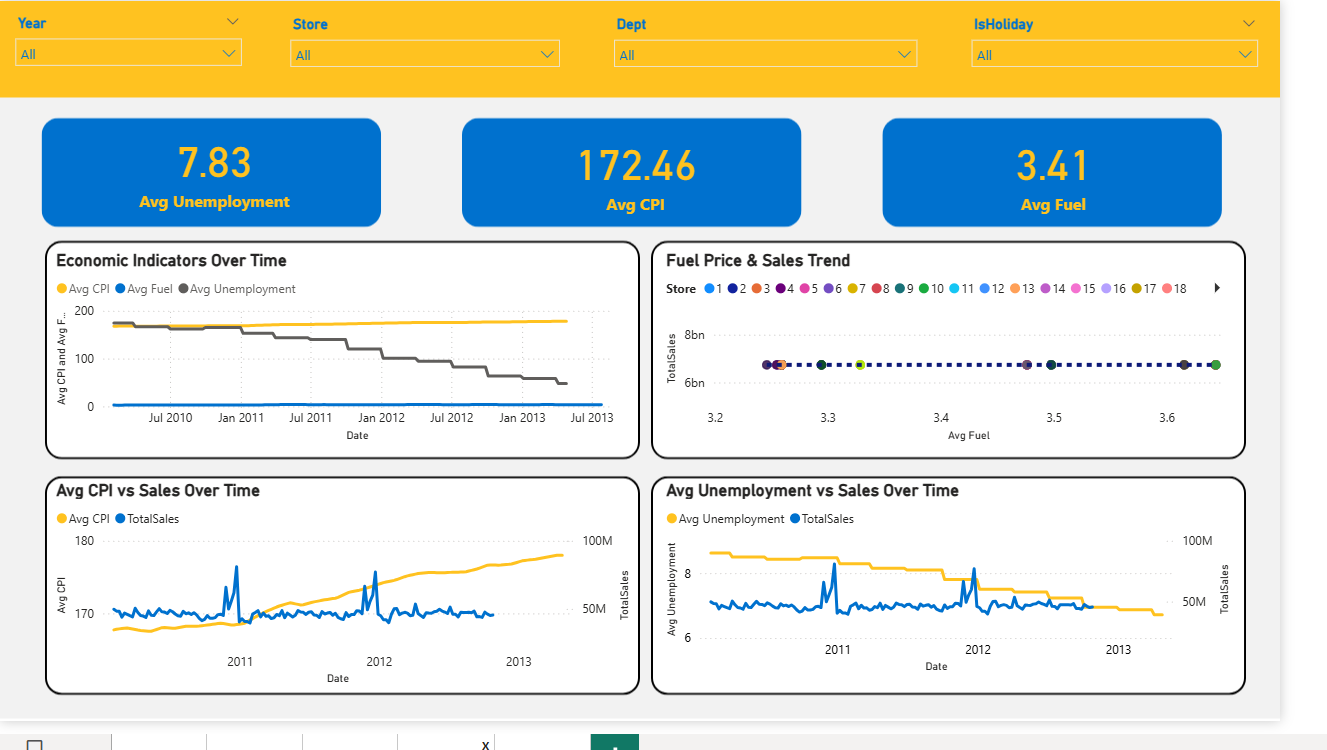

This screenshot's page, from the dashboard's own definition file:
{"tool":"powerbi","page":{"name":"Page 4","canvas":[1280,720],"ordinal":3},"visuals":[{"type":"lineChart","title":"Economic Indicators Over Time","fields":{"Category":["Dim_Date.Date"],"Y":["Category Parameter.Avg CPI","Category Parameter.Avg Fuel"],"Y2":["Category Parameter.Avg Unemployment"]},"box":[51.7,248.3,568.3,196.7],"z":0},{"type":"lineChart","title":"Avg CPI vs Sales Over Time","fields":{"Category":["Dim_Date.Date"],"Y2":["Dim_Date.TotalSales"],"Y":["Category Parameter.Avg CPI"]},"box":[51.7,478.3,585,210],"z":1000},{"type":"lineChart","title":"Avg Unemployment vs Sales Over Time","fields":{"Y":["Category Parameter.Avg Unemployment"],"Category":["Dim_Date.Date"],"Y2":["Dim_Date.TotalSales"]},"box":[661.7,478.3,575,198.3],"z":2000},{"type":"scatterChart","title":"Fuel Price & Sales Trend","fields":{"Y":["Dim_Date.TotalSales"],"Series":["features.Store"],"X":["Category Parameter.Avg Fuel"]},"box":[661.7,248.3,575,196.7],"z":3000},{"type":"slicer","fields":{"Values":["Dim_Date.Year"]},"box":[5,8.3,246.7,65],"z":4000},{"type":"slicer","fields":{"Values":["stores.Store"]},"box":[280,10,290,65],"z":5000},{"type":"slicer","fields":{"Values":["train.Dept"]},"box":[603.3,10,323.3,65],"z":6000},{"type":"slicer","fields":{"Values":["features.IsHoliday"]},"box":[961.7,10,306.7,65],"z":7000},{"type":"card","fields":{"Values":["Category Parameter.Avg CPI"]},"box":[520,120,231.7,101.7],"z":8000},{"type":"card","fields":{"Values":["Category Parameter.Avg Fuel"]},"box":[911.7,120,285,101.7],"z":9000},{"type":"card","fields":{"Values":["Category Parameter.Avg Unemployment"]},"box":[68.3,113.3,291.7,108.3],"z":10000}]}

Visuals, with their boxes on the page's 1280x720 design canvas (x1, y1, x2, y2). These are canvas units, not pixel positions in the 1327x750 screenshot, which may show the page scaled, cropped or inside an application window:
"Economic Indicators Over Time" lineChart: {"left": 52, "top": 248, "right": 620, "bottom": 445}
"Avg CPI vs Sales Over Time" lineChart: {"left": 52, "top": 478, "right": 637, "bottom": 688}
"Avg Unemployment vs Sales Over Time" lineChart: {"left": 662, "top": 478, "right": 1237, "bottom": 677}
"Fuel Price & Sales Trend" scatterChart: {"left": 662, "top": 248, "right": 1237, "bottom": 445}
slicer - Dim_Date.Year: {"left": 5, "top": 8, "right": 252, "bottom": 73}
slicer - stores.Store: {"left": 280, "top": 10, "right": 570, "bottom": 75}
slicer - train.Dept: {"left": 603, "top": 10, "right": 927, "bottom": 75}
slicer - features.IsHoliday: {"left": 962, "top": 10, "right": 1268, "bottom": 75}
card - Category Parameter.Avg CPI: {"left": 520, "top": 120, "right": 752, "bottom": 222}
card - Category Parameter.Avg Fuel: {"left": 912, "top": 120, "right": 1197, "bottom": 222}
card - Category Parameter.Avg Unemployment: {"left": 68, "top": 113, "right": 360, "bottom": 222}
